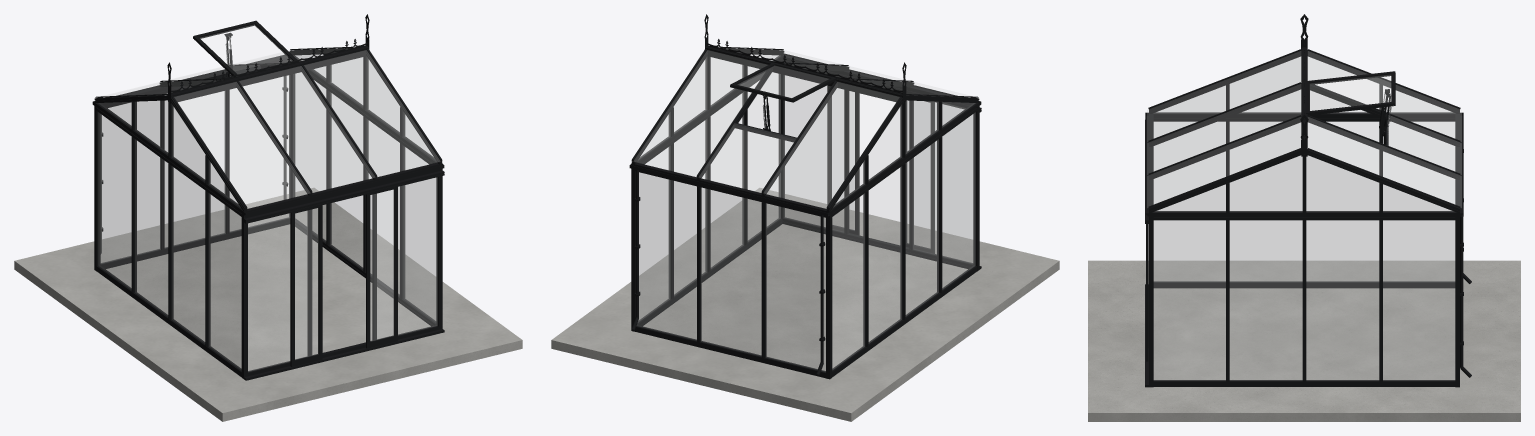
Rendered from sg-rect-10-2-7-9-decor.glb.
3 views of the same model, side by side, from view 1: azimuth 30°, elevation 25°; view 2: azimuth 150°, elevation 25°; view 3: azimuth 270°, elevation 25° (orthographic). The views are drawn at different scales.
Parts seen in each view (by area): view 1: scandiglas-rect-10-2-7-9-decor; view 2: scandiglas-rect-10-2-7-9-decor; view 3: scandiglas-rect-10-2-7-9-decor.
Part boxes in pixels (<box>): scandiglas-rect-10-2-7-9-decor: <box>14,14,522,421</box>; scandiglas-rect-10-2-7-9-decor: <box>551,14,1059,421</box>; scandiglas-rect-10-2-7-9-decor: <box>1088,14,1520,421</box>.
Bounding box in the file's own units: 3.64 × 3.14 × 4.38.
5 materials, 1 textured.
